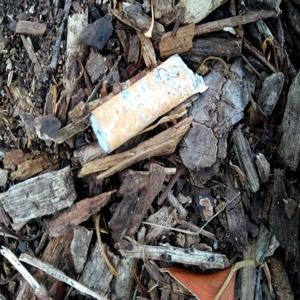plastic: (82, 60, 219, 155)
